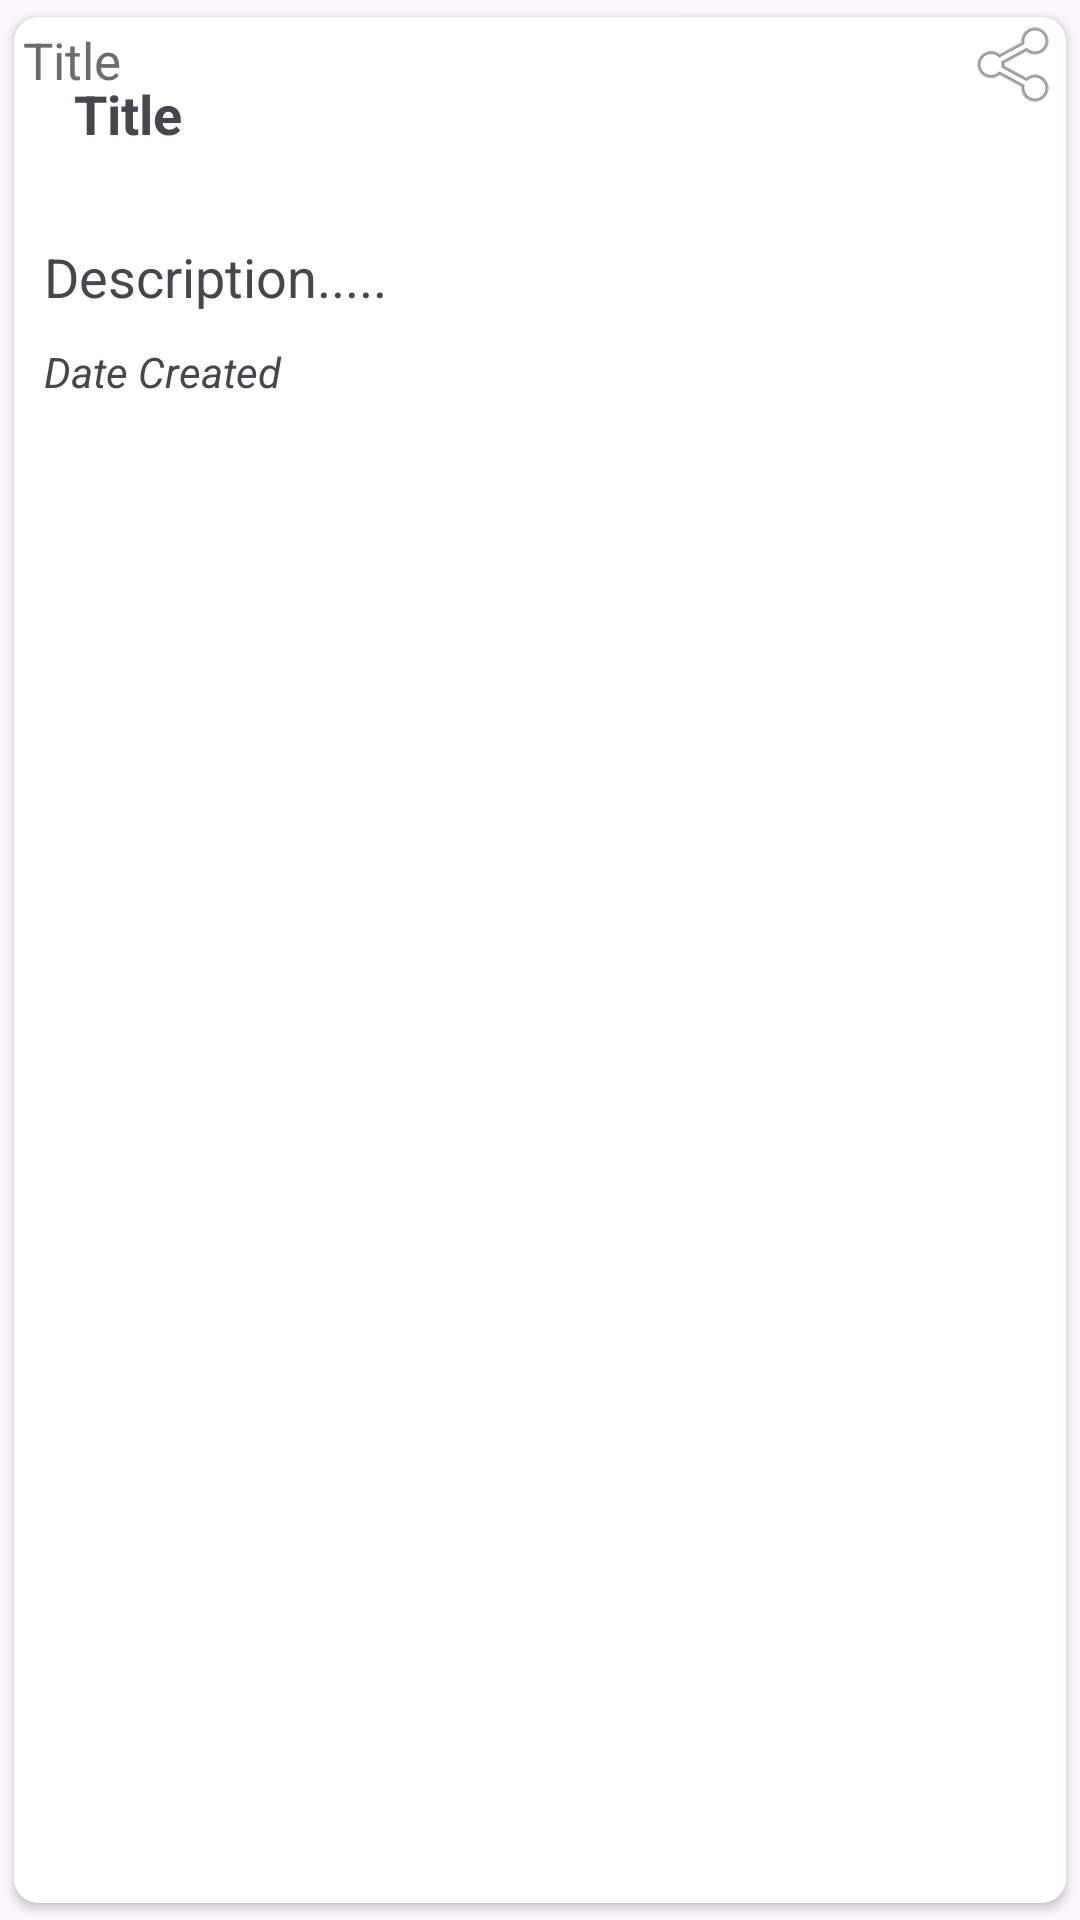

Named icons in this screenshot (1080x1920) and their centers, [x,y]:
share: [1013,64]
